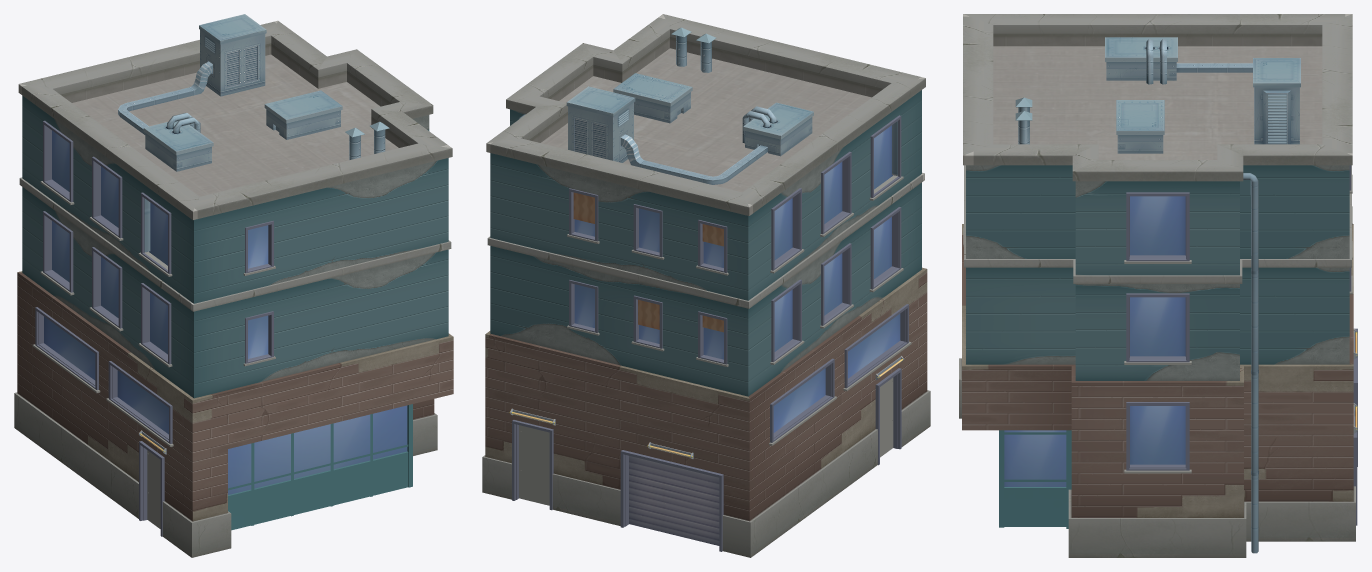
The model's file is Building_05_2_LOD2.fbx.
The picture shows the model from 3 angles, left to right: view 1: azimuth 30°, elevation 25°; view 2: azimuth 150°, elevation 25°; view 3: azimuth 270°, elevation 25°; orthographic projection. The views are drawn at different scales.
Visible parts, largest first — view 1: polySurface4178; view 2: polySurface4178; view 3: polySurface4178.
Boxes of the visible parts, x1=… form: polySurface4178: x1=14, y1=14, x2=453, y2=557; polySurface4178: x1=482, y1=14, x2=930, y2=557; polySurface4178: x1=959, y1=14, x2=1357, y2=557.
Size of the model in its own units: 921 by 1142 by 956.
